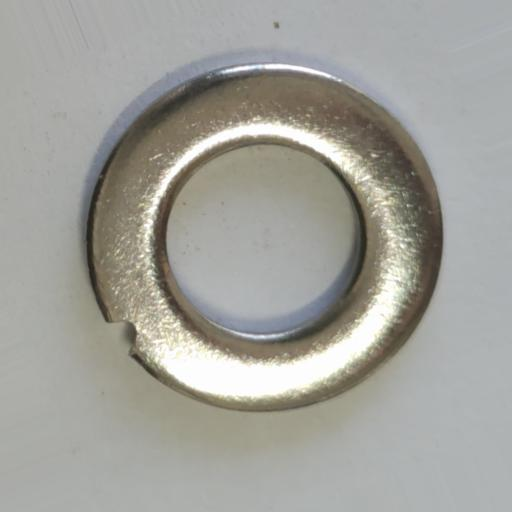burr: (105, 319, 139, 358)
